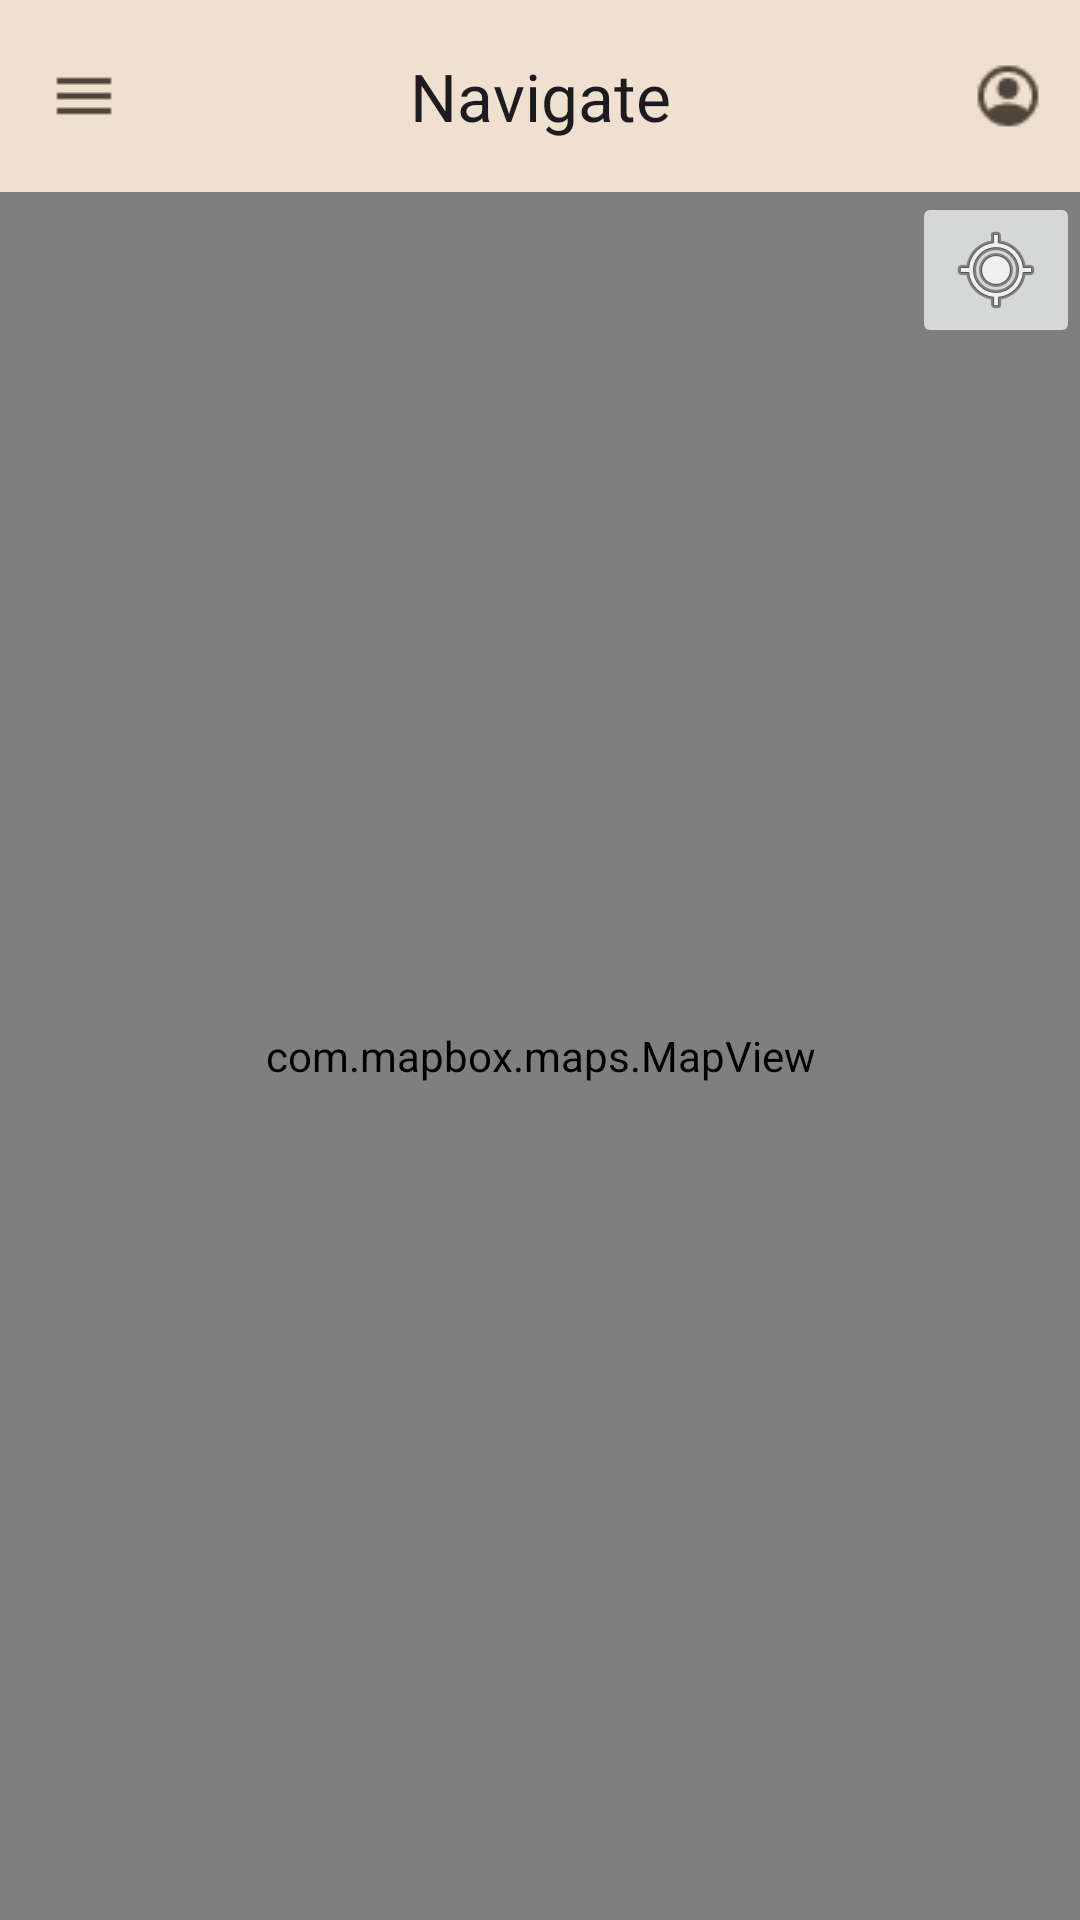

Screen size 1080*1920. Icon name, then its center in pixels as (x=x, y=y):
mylocation: (x=996, y=270)
